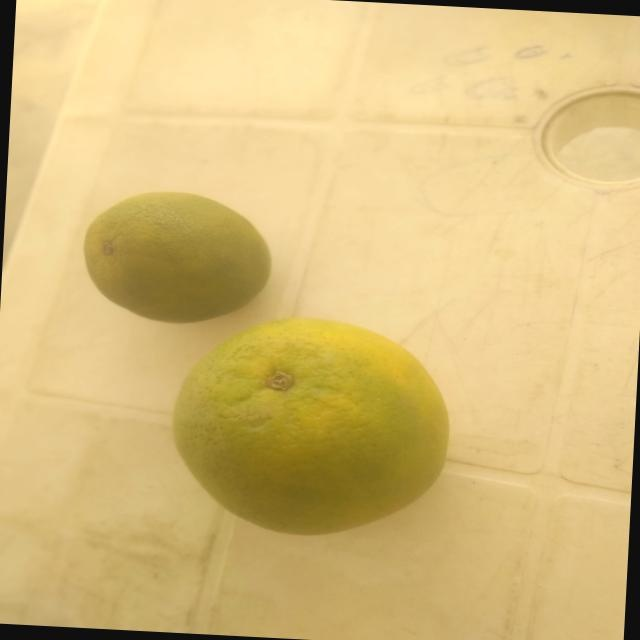agrume: (143, 309, 486, 552), (71, 176, 272, 331)
